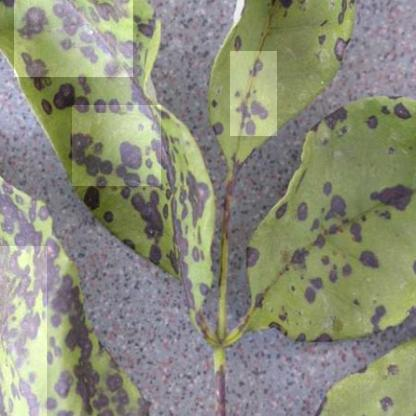black-spot: (296, 174, 416, 312), (14, 0, 133, 77), (0, 246, 47, 416), (72, 105, 161, 186), (230, 51, 277, 136), (360, 380, 416, 416)
